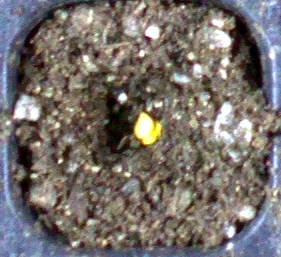pepper seed: (59, 45, 222, 192), (55, 42, 210, 181)
